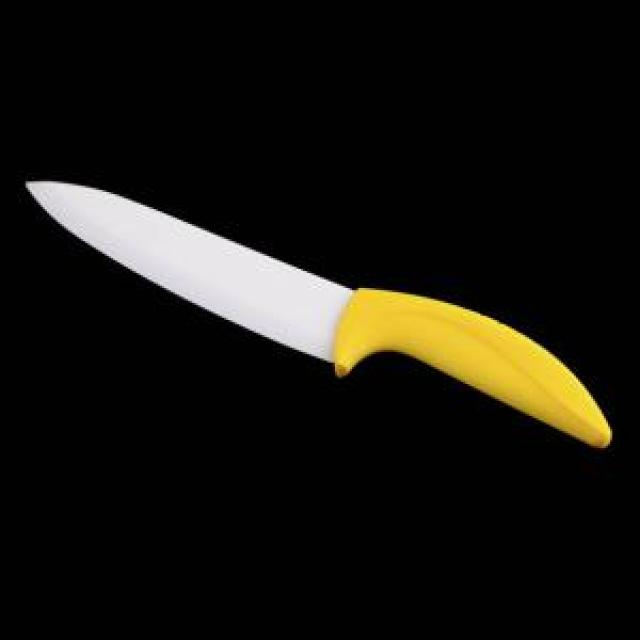knife: (19, 175, 617, 452)
